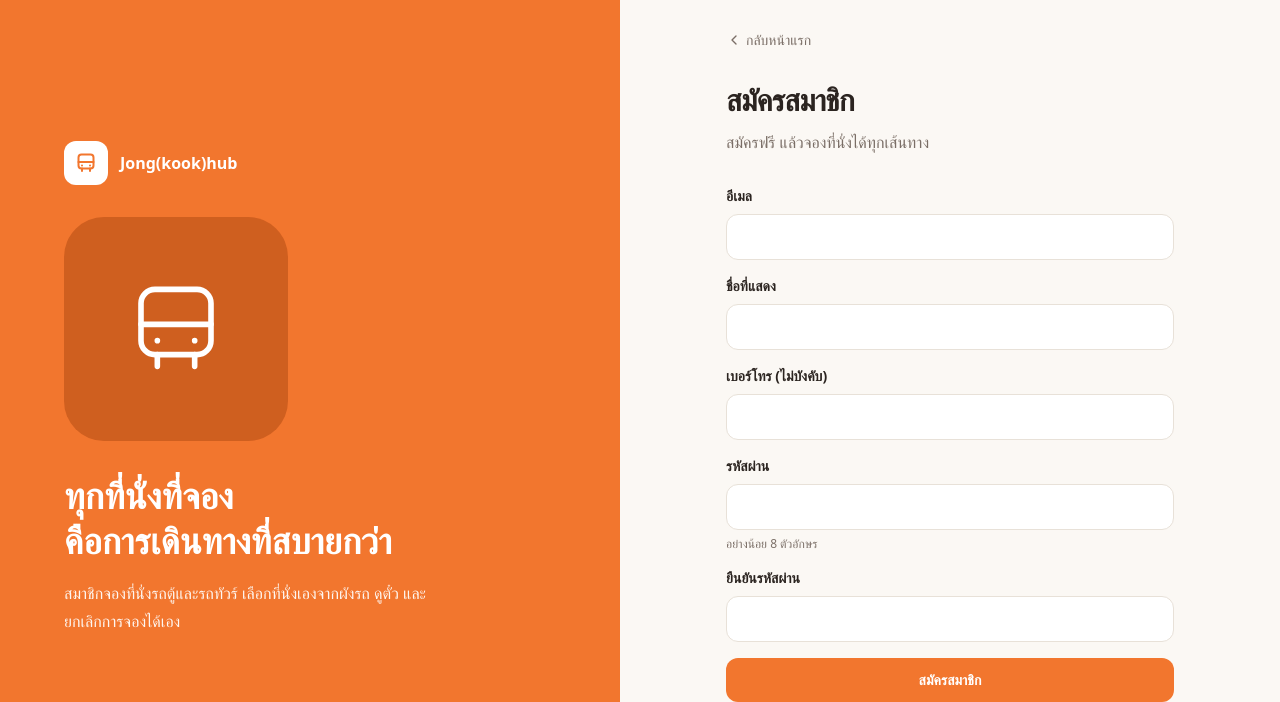
Test: อีเมลซ้ำ โชว์ข้อความจาก server และกดสมัครใหม่ได้
The image size is (1280, 702).
Type "nida@example.com" into the field labelled "อีเมล".
click(950, 237); type("nida@example.com")  # box [726,214,1174,260]
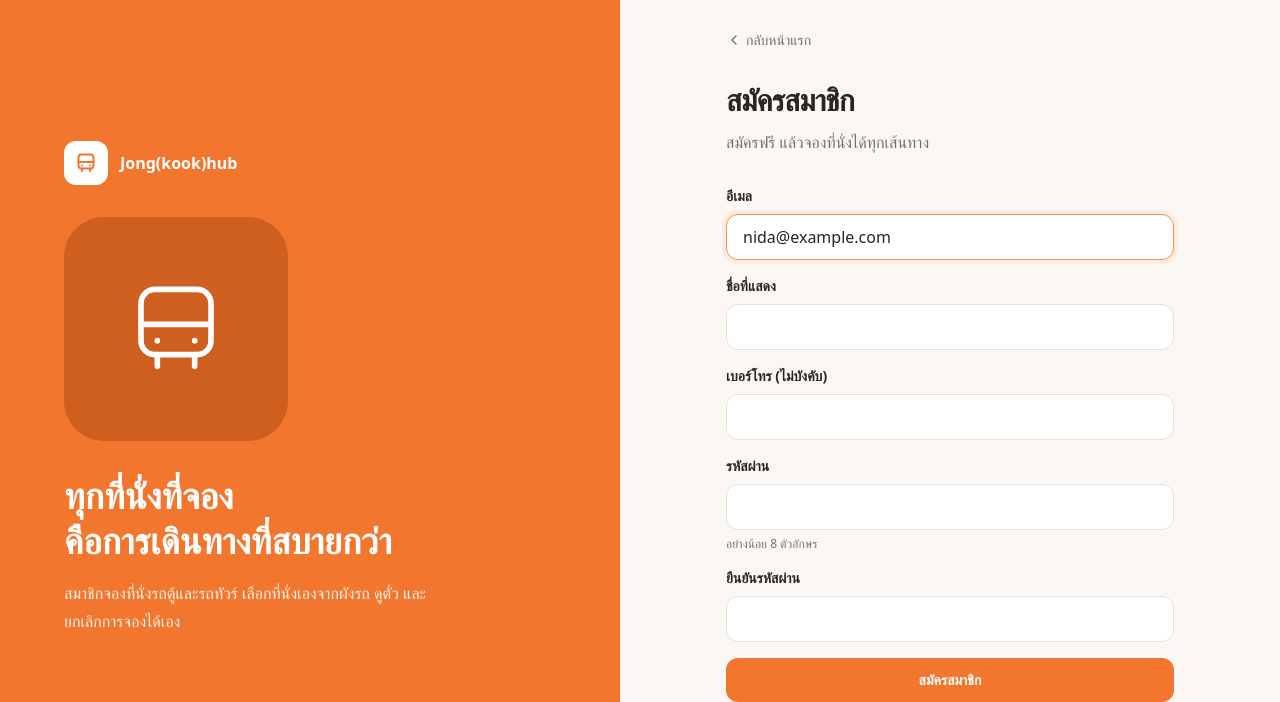
Type "นิดา" into the field labelled "ชื่อที่แสดง".
click(950, 327); type("นิดา")  # box [726,304,1174,350]
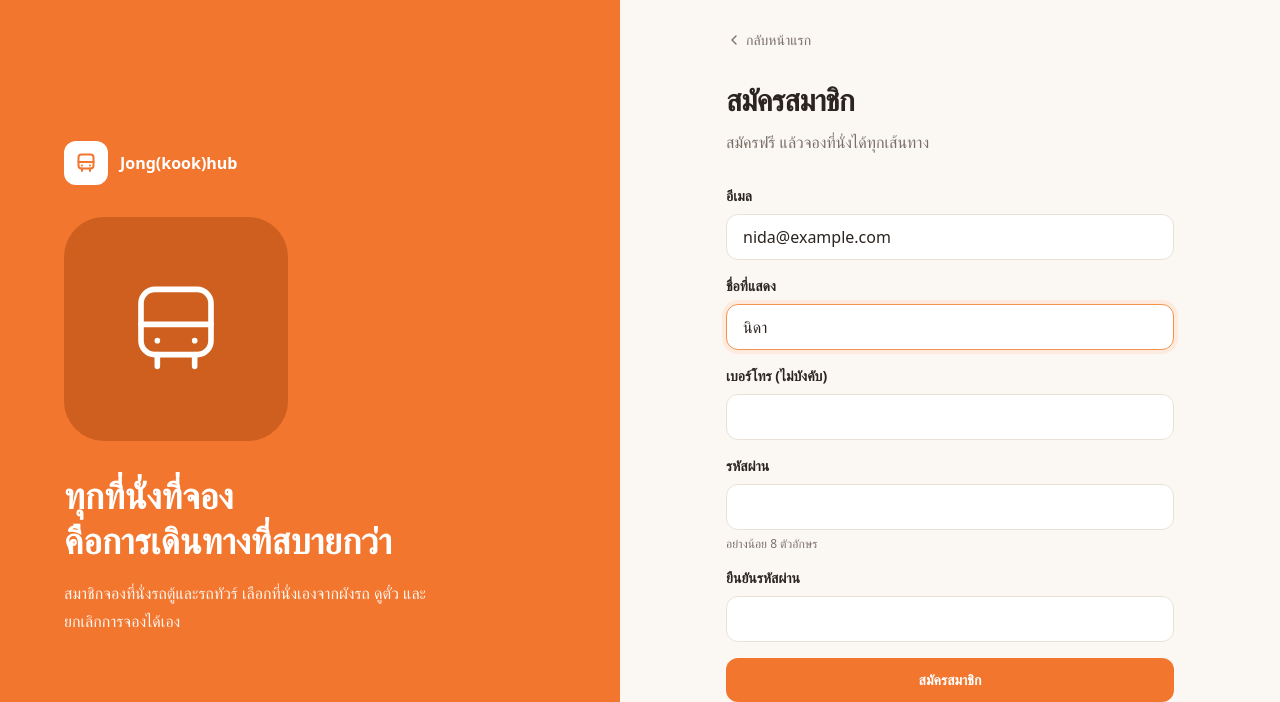
Type "password123" into the password field labelled "รหัสผ่าน อย่างน้อย 8 ตัวอักษร".
click(950, 507); type("password123")  # box [726,484,1174,530]
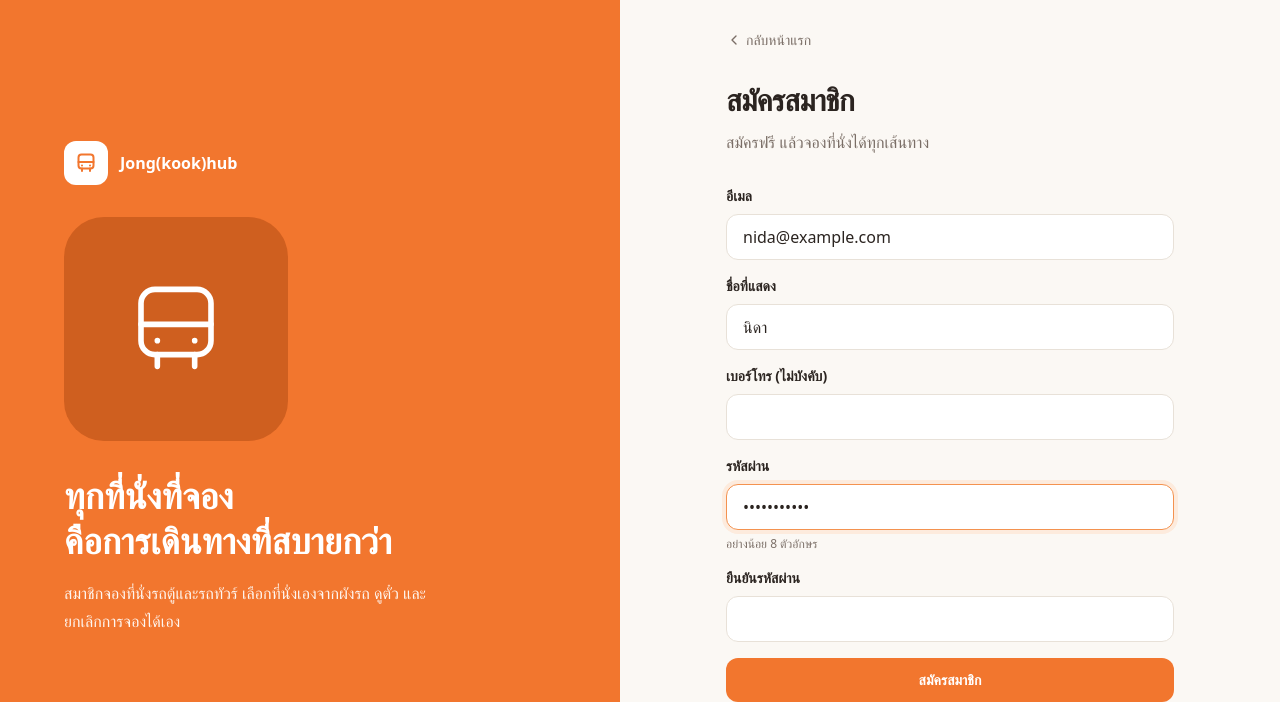
Type "password123" into the password field labelled "ยืนยันรหัสผ่าน".
click(950, 619); type("password123")  # box [726,596,1174,642]
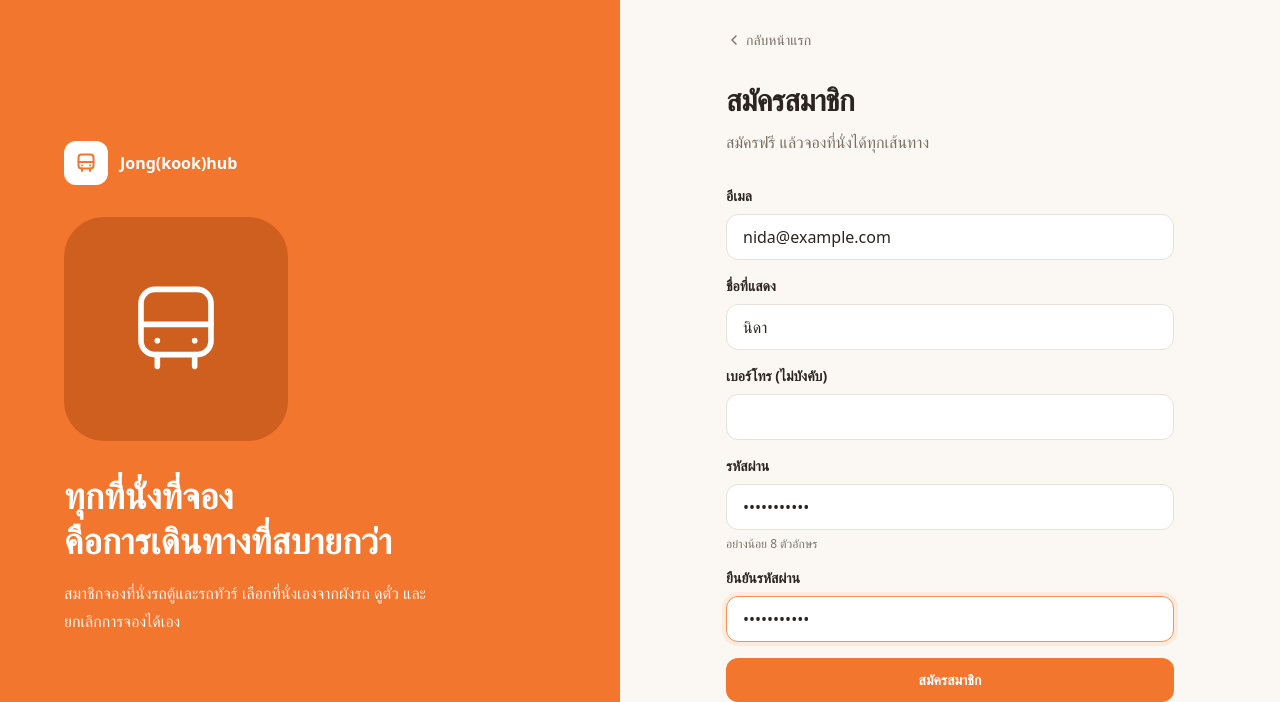
Click the button "สมัครสมาชิก".
click(950, 680)  # box [726,658,1174,701]
(page scrolled)
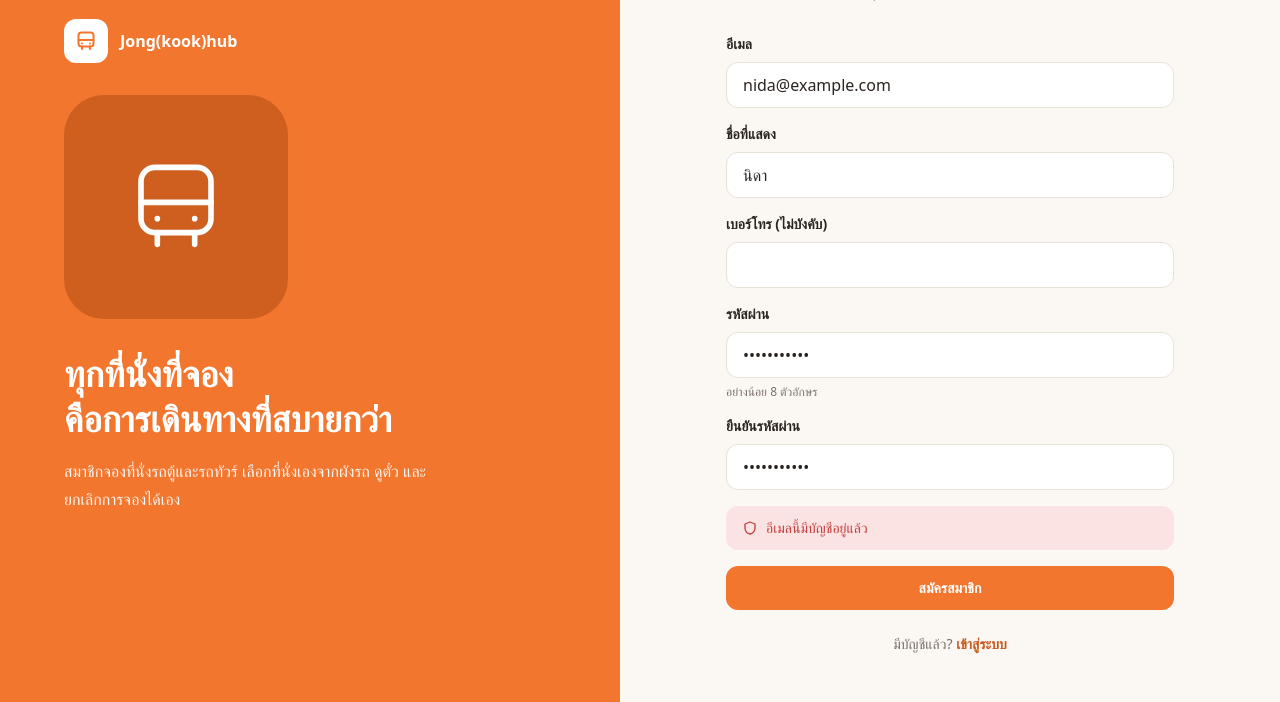
Check: the button "สมัครสมาชิก" is enabled, box [726,566,1174,610]
Check: the message reads "อีเมลนี้มีบัญชีอยู่แล้ว", box [766,518,868,537]
